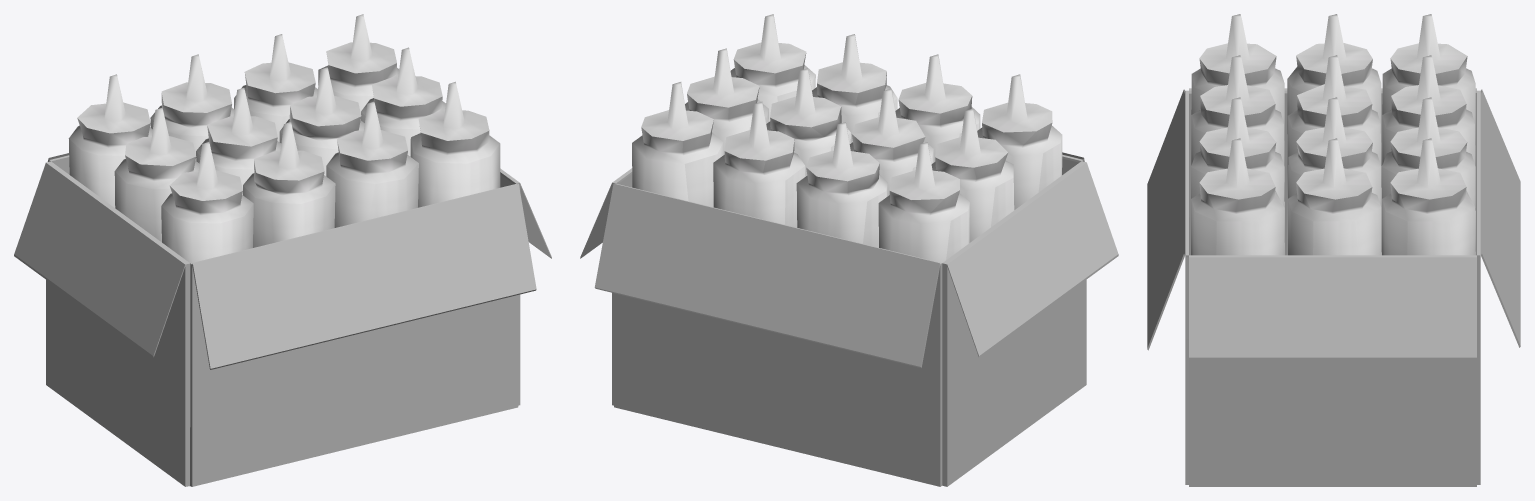
Rendered from SauceBox.fbx.
The picture shows the model from 3 angles, left to right: view 1: azimuth 30°, elevation 25°; view 2: azimuth 150°, elevation 25°; view 3: azimuth 270°, elevation 25°; orthographic projection. The views are drawn at different scales.
Visible parts, largest first — view 1: pCube1; view 2: pCube1; view 3: pCube1.
Boxes of the visible parts, x1,y1,x2,y2 form: pCube1: [14, 14, 551, 486]; pCube1: [580, 14, 1118, 486]; pCube1: [1147, 14, 1520, 486].
Bounding box in the file's own units: 44.24 × 33.42 × 34.76.
